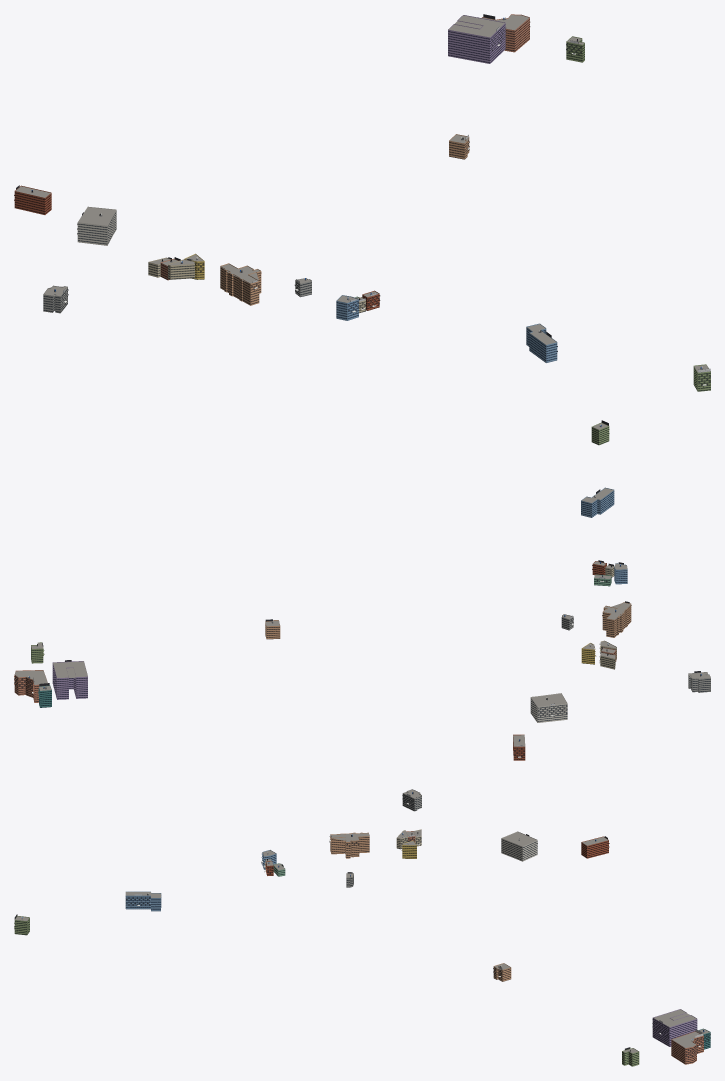
The model's file is hotels-27361-14869.be0053de.glb.
3 views of the same model, one above another, from view 1: azimuth 30°, elevation 25°; view 2: azimuth 150°, elevation 25°; view 3: azimuth 270°, elevation 25° (orthographic). The views are drawn at different scales.
Bounding box in the file's own units: 978 × 89.77 × 1153.
Materials: 4 (2 with a texture image).
